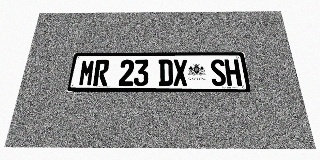2: (119, 60, 134, 86)
3: (133, 59, 149, 86)
D: (158, 59, 173, 86)
H: (224, 59, 242, 86)
M: (78, 60, 96, 86)
R: (93, 60, 110, 86)
S: (210, 59, 227, 86)
X: (173, 59, 188, 86)
